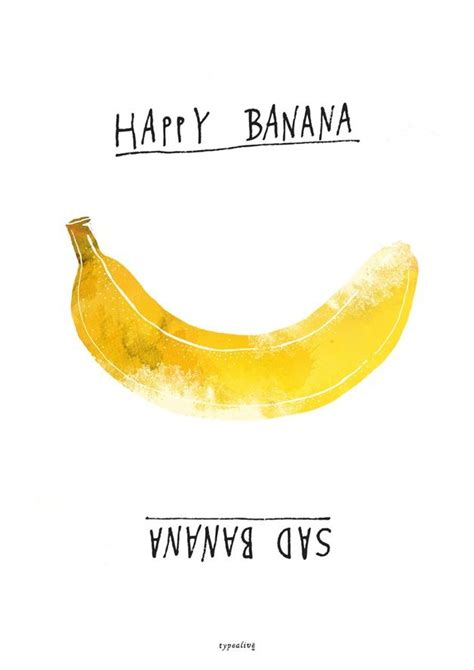banana: (69, 239, 430, 421)
